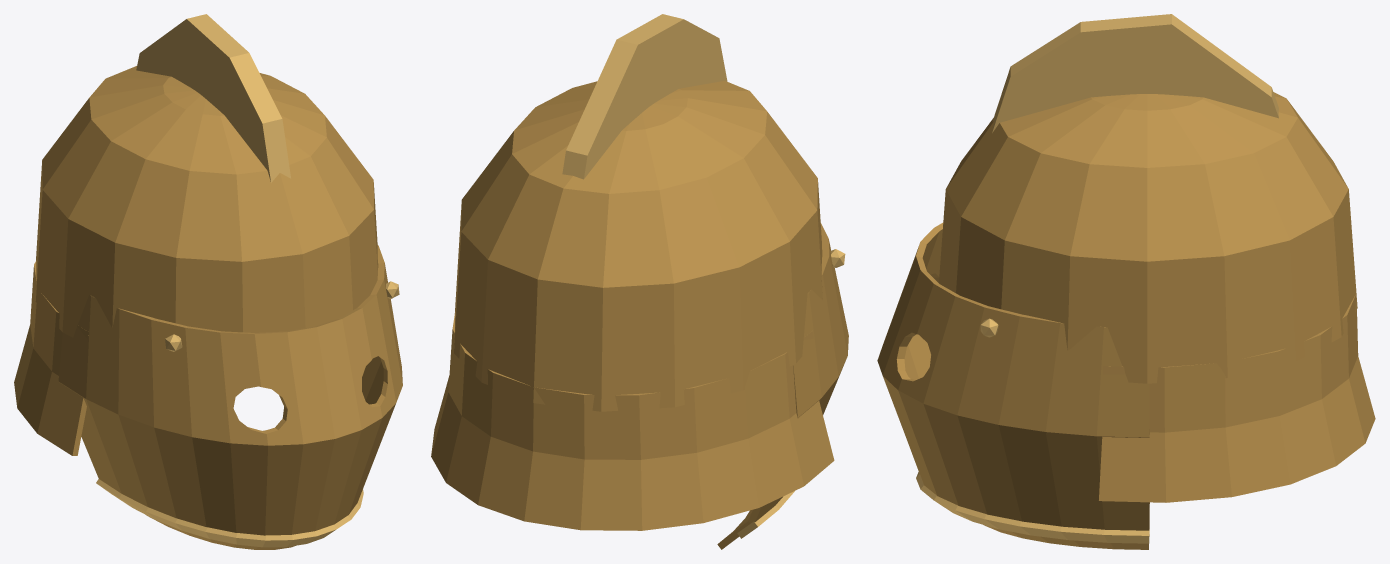
The model's file is Helmet_T3_SECUTOR.fbx.
The picture shows the model from 3 angles, left to right: view 1: azimuth 30°, elevation 25°; view 2: azimuth 150°, elevation 25°; view 3: azimuth 270°, elevation 25°; orthographic projection. The views are drawn at different scales.
Visible parts, largest first — view 1: T3_SECUTOR_Part_02, T3_SECUTOR_Part_01, T3_SECUTOR_Part_05, T3_SECUTOR_Part_03, T3_SECUTOR_Part_04; view 2: T3_SECUTOR_Part_02, T3_SECUTOR_Part_03, T3_SECUTOR_Part_05, T3_SECUTOR_Part_01; view 3: T3_SECUTOR_Part_02, T3_SECUTOR_Part_01, T3_SECUTOR_Part_03, T3_SECUTOR_Part_05, T3_SECUTOR_Part_04.
Boxes of the visible parts, x1=… form: T3_SECUTOR_Part_02: x1=35, y1=66, x2=378, y2=337; T3_SECUTOR_Part_01: x1=58, y1=245, x2=402, y2=549; T3_SECUTOR_Part_05: x1=136, y1=14, x2=290, y2=182; T3_SECUTOR_Part_03: x1=14, y1=261, x2=88, y2=455; T3_SECUTOR_Part_04: x1=96, y1=479, x2=363, y2=547; T3_SECUTOR_Part_02: x1=454, y1=81, x2=822, y2=411; T3_SECUTOR_Part_03: x1=431, y1=312, x2=834, y2=530; T3_SECUTOR_Part_05: x1=562, y1=14, x2=727, y2=179; T3_SECUTOR_Part_01: x1=717, y1=223, x2=848, y2=549; T3_SECUTOR_Part_02: x1=939, y1=92, x2=1357, y2=383; T3_SECUTOR_Part_01: x1=877, y1=222, x2=1149, y2=549; T3_SECUTOR_Part_03: x1=1099, y1=293, x2=1375, y2=502; T3_SECUTOR_Part_05: x1=992, y1=14, x2=1278, y2=132; T3_SECUTOR_Part_04: x1=916, y1=472, x2=1149, y2=543.
Bounding box in the file's own units: 22.69 × 30.9 × 28.43.
